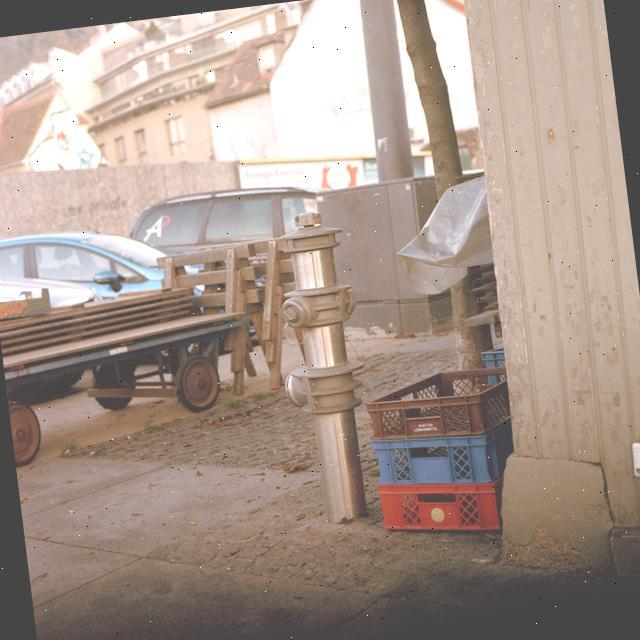fire_hydrant: (262, 204, 385, 531)
